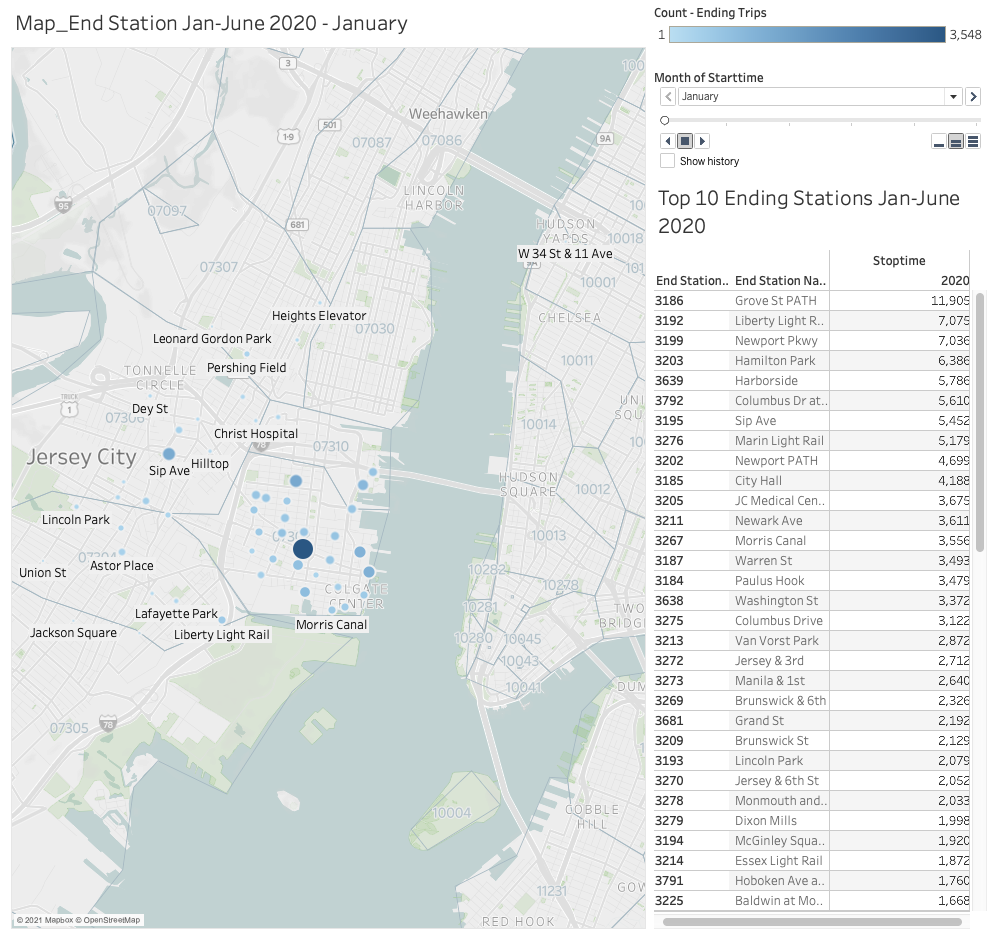

The dashboard page shown, as its layout file describes it:
{"tool":"tableau","page":{"name":"Map_End/Month Dashboard","canvas":[1000,1000],"units":"permille","ordinal":7},"visuals":[{"type":"worksheet","box":[0,0,1000,1000]},{"type":"worksheet","param":"horz","box":[8,14.5,984,971]},{"type":"worksheet","box":[8,14.5,643,971]},{"type":"worksheet","title":"Map_End Station Jan-June 2020","mark":"Automatic","rows":["end station latitude"],"cols":["end station longitude"],"box":[8,14.5,643,971]},{"type":"worksheet","param":"vert","box":[651,14.5,341,971]},{"type":"worksheet","title":"Map_End Station Jan-June 2020","mark":"Automatic","rows":["end station latitude"],"cols":["end station longitude"],"param":"[federated.06zk79c0h9xah91e0ka0r1w2cczw].[usr:Count - Starting Trips (copy)_7367","box":[651,14.5,341,117.8]},{"type":"worksheet","title":"Map_End Station Jan-June 2020","mark":"Automatic","rows":["end station latitude"],"cols":["end station longitude"],"box":[651,132.2,341,199.3]},{"type":"worksheet","title":"Top 10 Ending Stations Jan-June 2020","mark":"Automatic","rows":["end station id","end station name"],"cols":["stoptime"],"box":[651,331.5,341,654]}]}

Visuals, with their boxes on the dashboard's canvas, which has no fixed pixel size, in thousandths of its width and height (x1, y1, x2, y2). These are canvas units, not pixel positions in the 999x935 screenshot, which may show the page scaled, cropped or inside an application window:
worksheet: left=0, top=0, right=1000, bottom=1000
worksheet: left=8, top=14, right=992, bottom=986
worksheet: left=8, top=14, right=651, bottom=986
"Map_End Station Jan-June 2020" worksheet: left=8, top=14, right=651, bottom=986
worksheet: left=651, top=14, right=992, bottom=986
"Map_End Station Jan-June 2020" worksheet: left=651, top=14, right=992, bottom=132
"Map_End Station Jan-June 2020" worksheet: left=651, top=132, right=992, bottom=332
"Top 10 Ending Stations Jan-June 2020" worksheet: left=651, top=332, right=992, bottom=986
